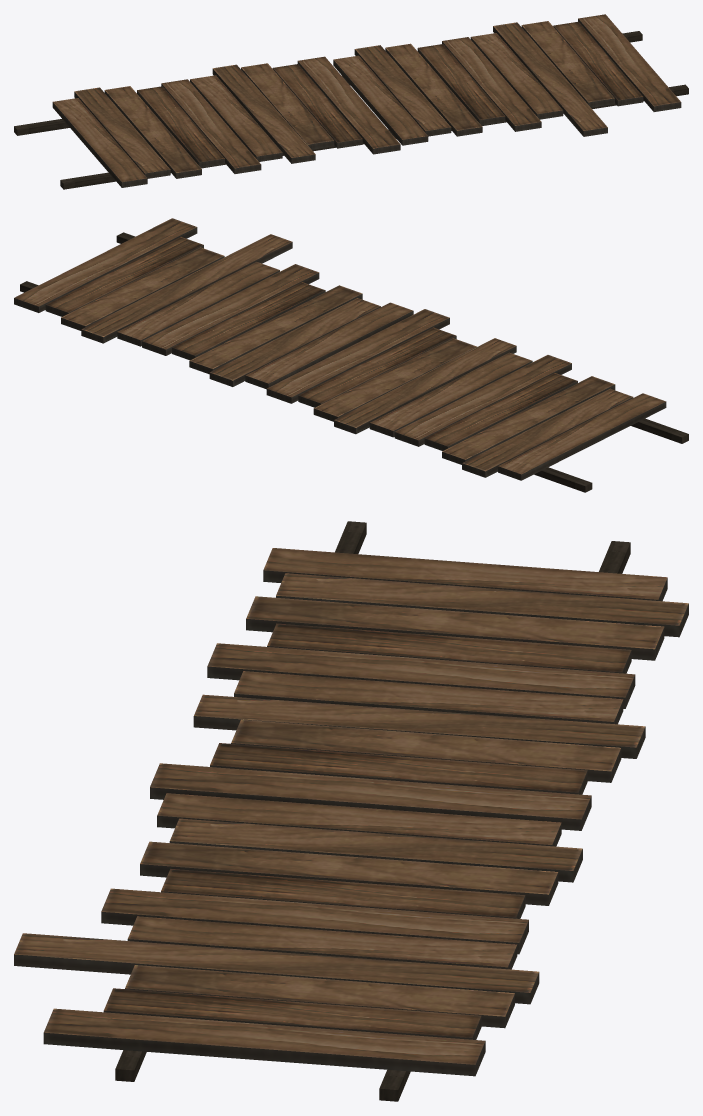
The model's file is PhoenixForest_Abyss_bridge01.FBX.
The picture shows the model from 3 angles, top to bottom: view 1: azimuth 30°, elevation 25°; view 2: azimuth 150°, elevation 25°; view 3: azimuth 270°, elevation 25°; orthographic projection. The views are drawn at different scales.
Parts seen in each view (by area): view 1: 005; view 2: 005; view 3: 005.
Boxes of the visible parts, x1,y1,x2,y2 form: 005: (14,14,688,189); 005: (14,218,688,492); 005: (14,521,688,1101).
Bounding box in the file's own units: 4600 × 87.19 × 2307.
1 material, 1 textured.
